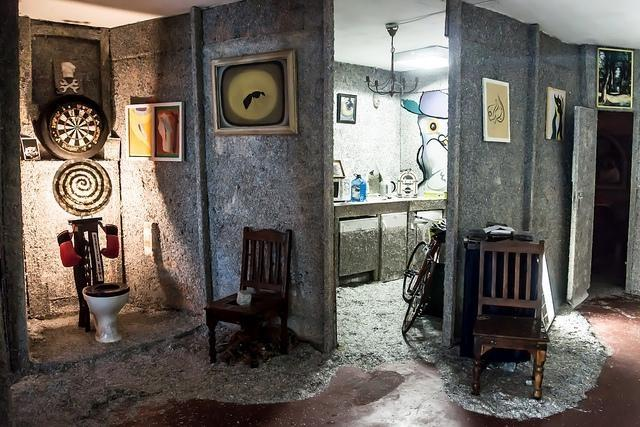bicycle: (400, 218, 444, 330)
